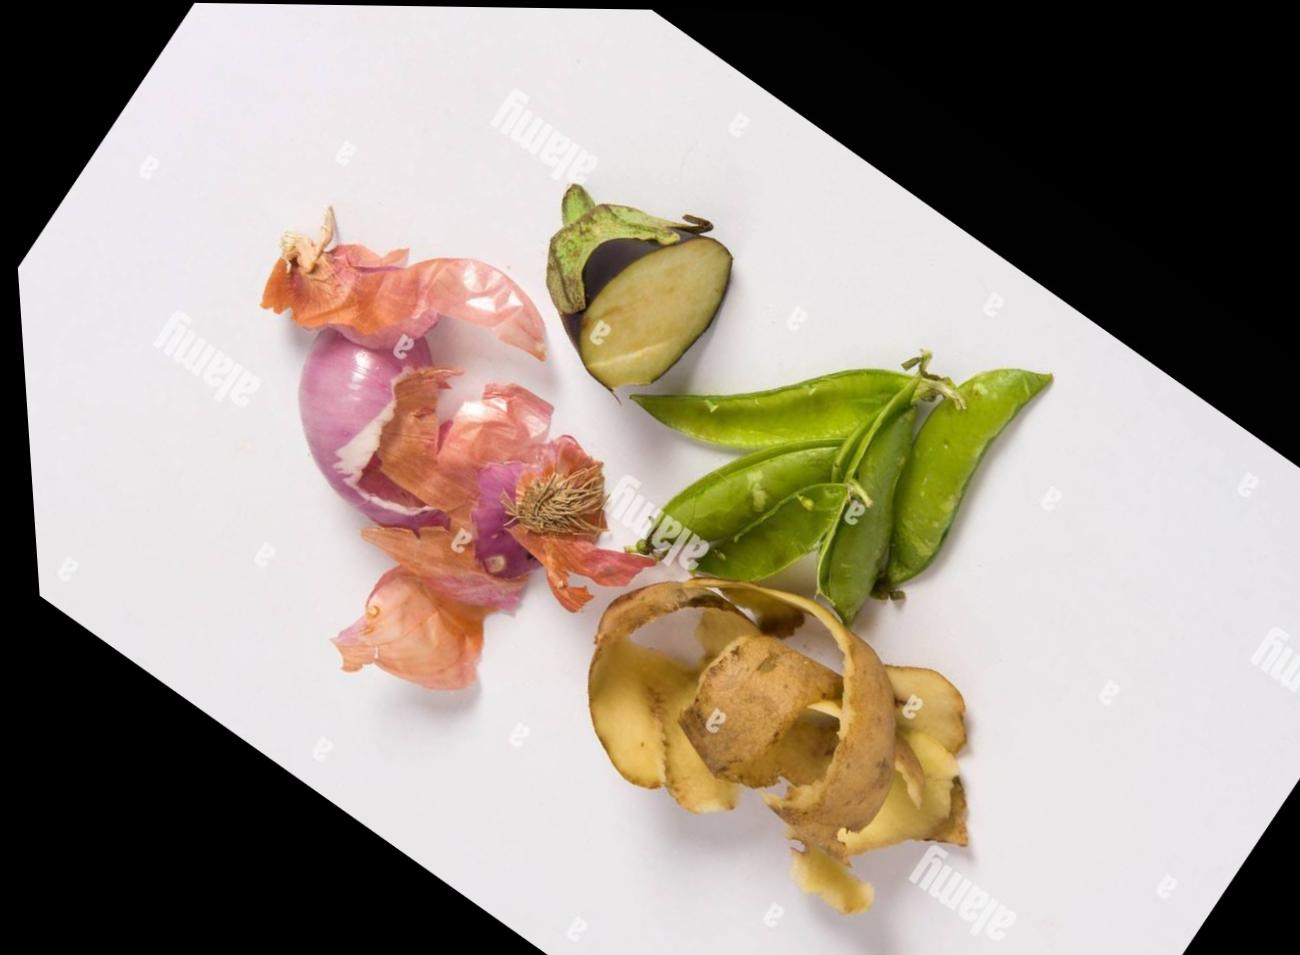organic: (520, 490, 1049, 955), (239, 270, 702, 672), (231, 150, 586, 464), (610, 227, 950, 544), (808, 316, 1092, 627), (472, 136, 768, 420), (749, 336, 1020, 634), (307, 547, 515, 740)
